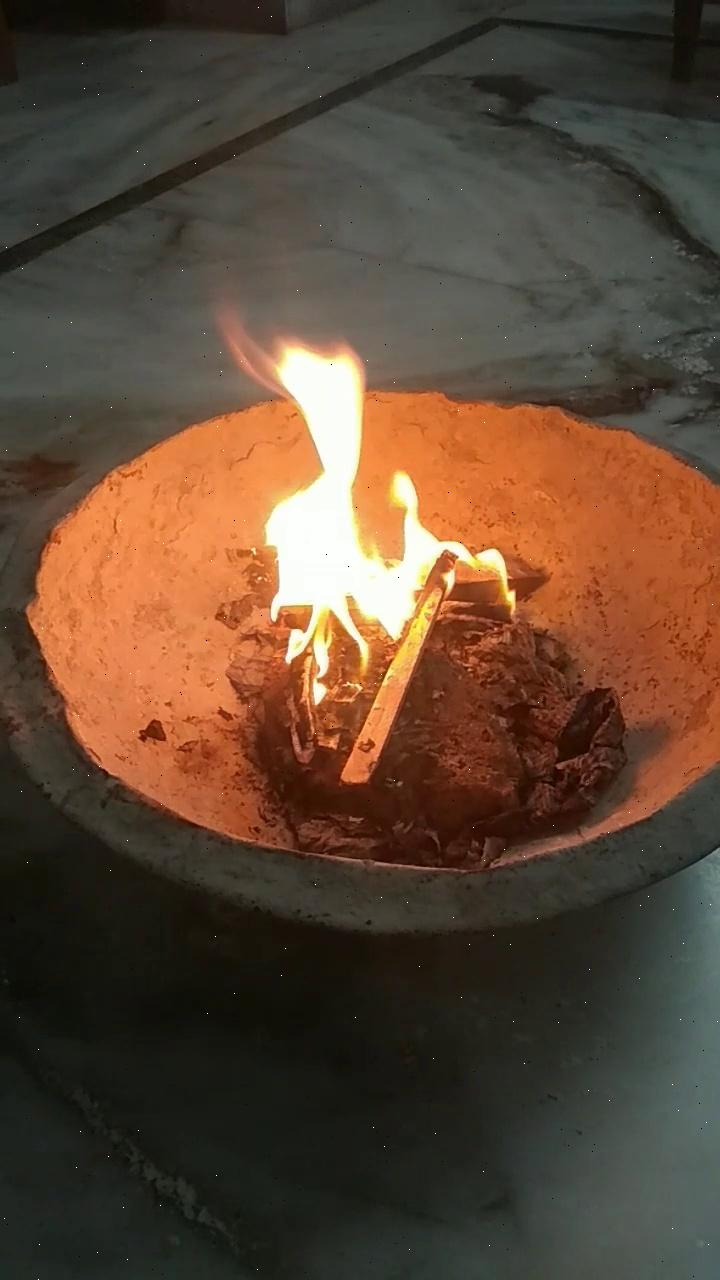fire: (199, 292, 528, 688)
